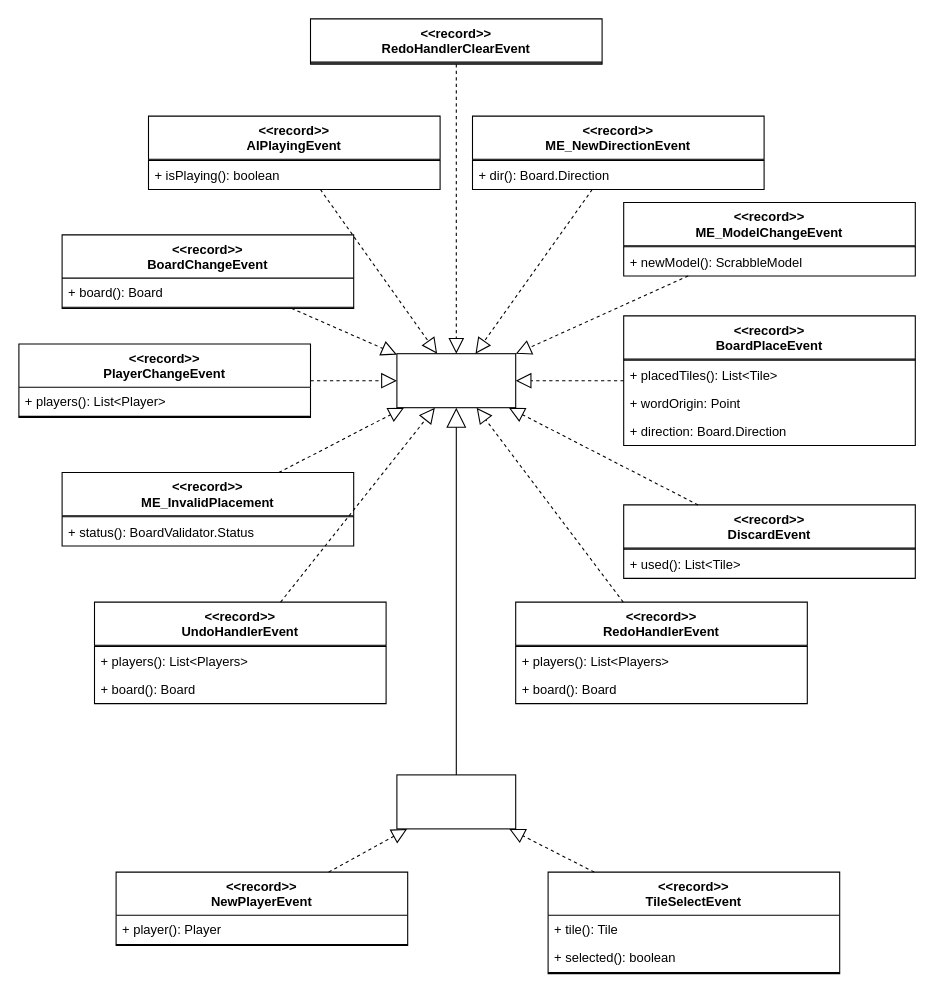
Image size: 934x994. Some labels were removed from this diagram. The box of each missing label's shape, as (x1, y1, x2, y2) in pixels:
«interface» HandChangeEvent: (396, 774, 516, 829)
«interface» ModelEvent: (396, 353, 516, 408)
